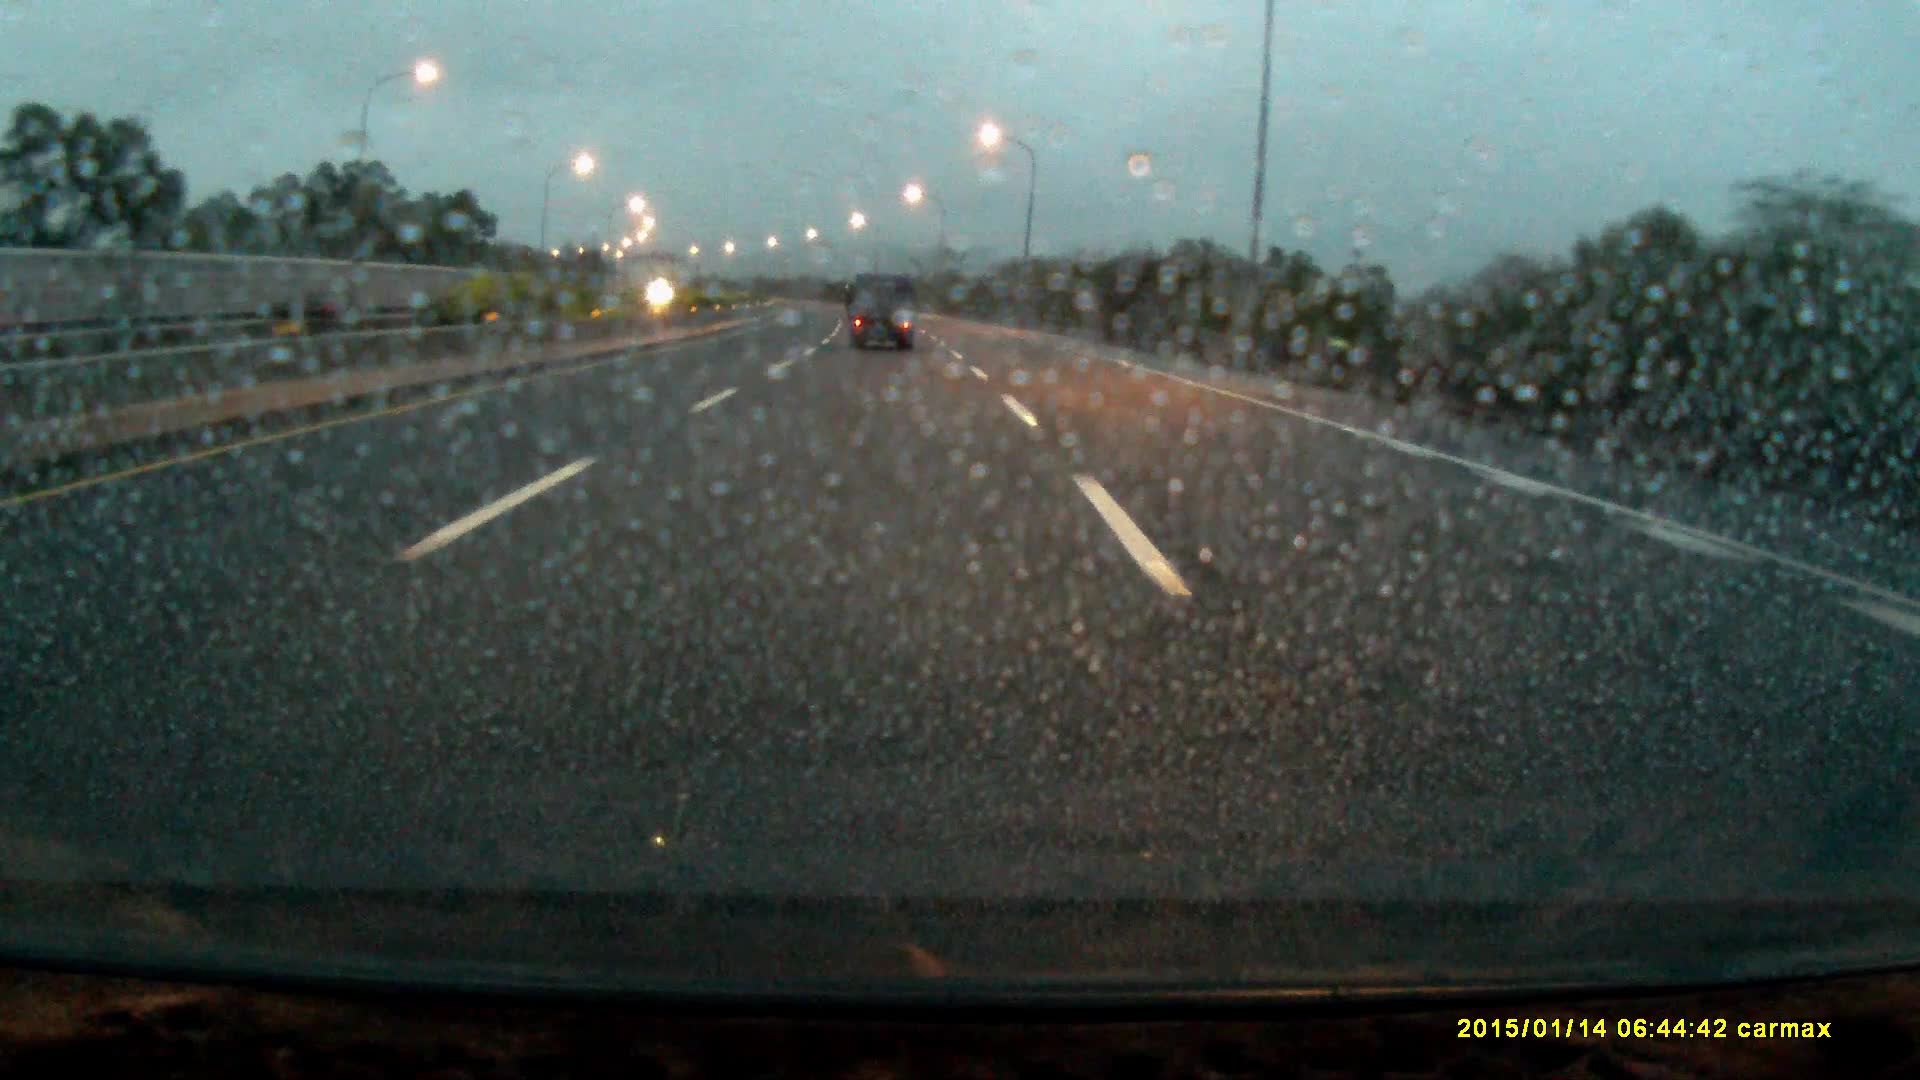vehicle: (851, 273, 914, 353)
